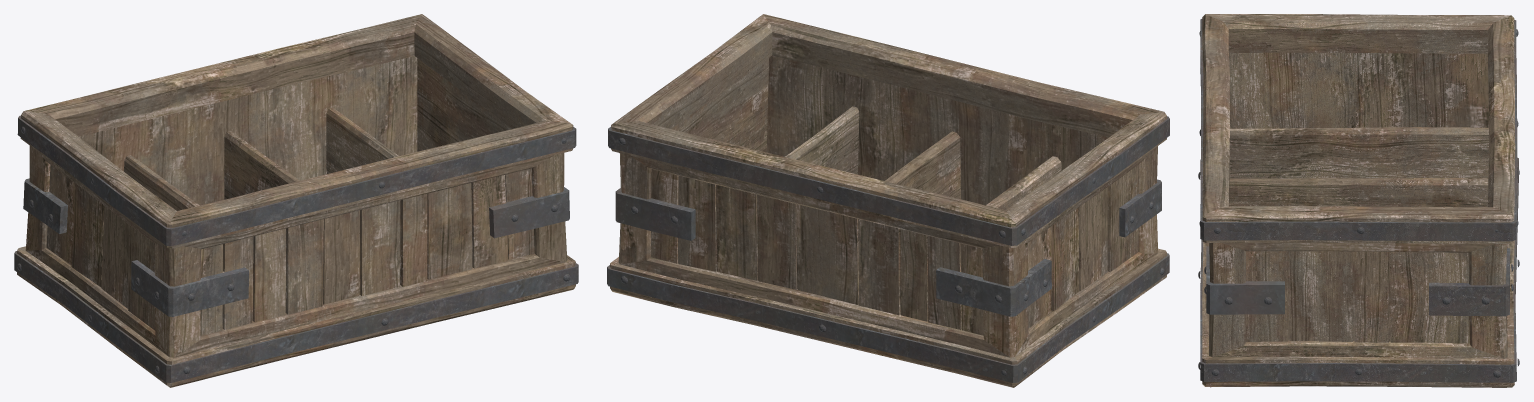
Rendered from SM_Crate_A_01.fbx.
3 views of the same model, side by side, from view 1: azimuth 30°, elevation 25°; view 2: azimuth 150°, elevation 25°; view 3: azimuth 270°, elevation 25° (orthographic). The views are drawn at different scales.
Visible parts, largest first — view 1: SM_Crate_A_01_LOD0; view 2: SM_Crate_A_01_LOD0; view 3: SM_Crate_A_01_LOD0.
Part boxes in pixels (x1,y1,x2,y2): SM_Crate_A_01_LOD0: [14, 14, 578, 387]; SM_Crate_A_01_LOD0: [607, 14, 1169, 387]; SM_Crate_A_01_LOD0: [1198, 14, 1519, 387].
Bounding box in the file's own units: 91.1 × 59.47 × 35.83.
Materials: 2 (2 with a texture image).
